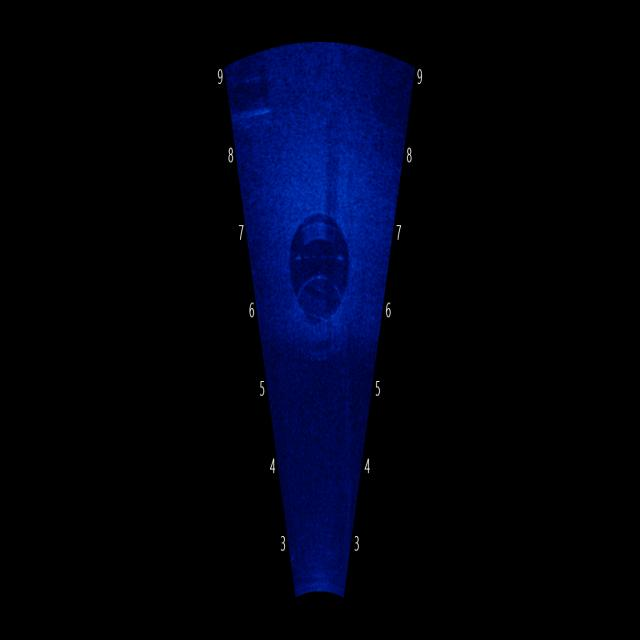circle: (278, 193, 358, 343)
